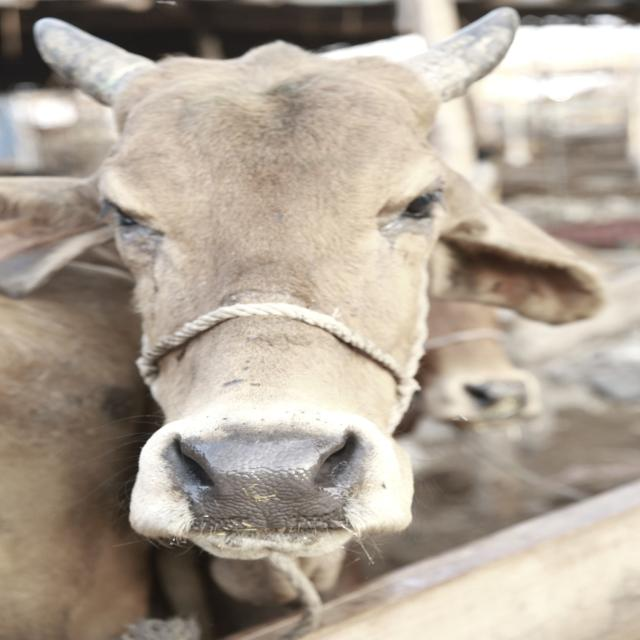muzzles: (158, 421, 378, 536)
